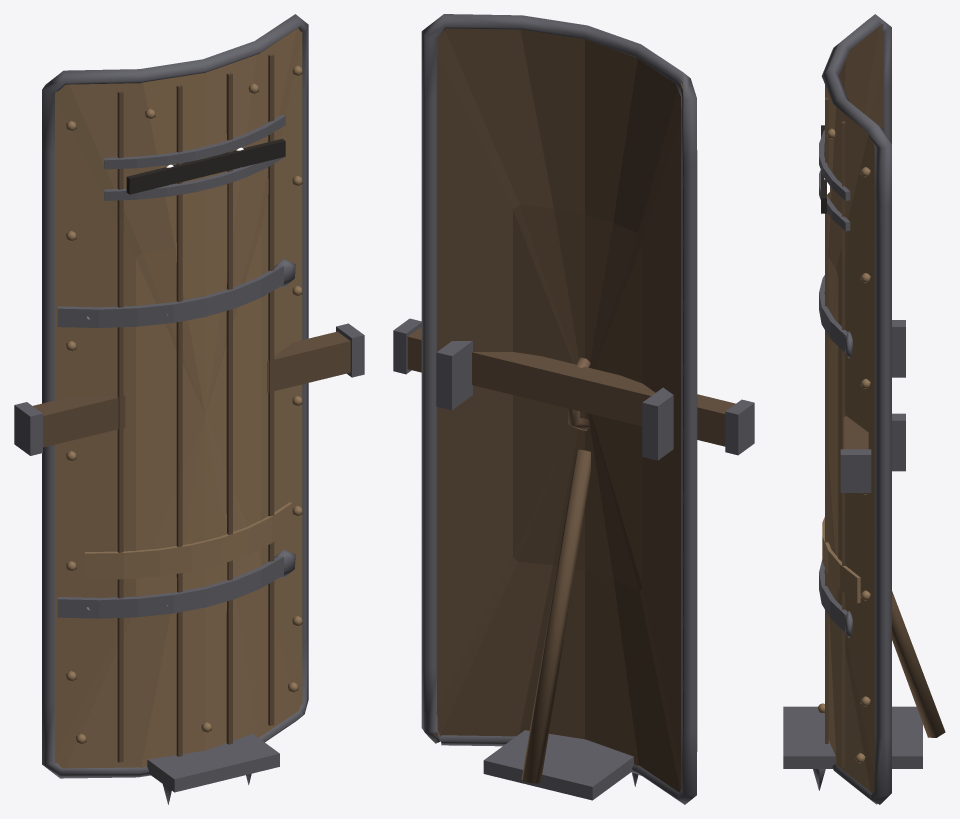
File: shield-tower.glb
The picture shows the model from 3 angles, left to right: view 1: azimuth 30°, elevation 25°; view 2: azimuth 150°, elevation 25°; view 3: azimuth 270°, elevation 25°; orthographic projection. The views are drawn at different scales.
Parts seen in each view (by area): view 1: shield-tower; view 2: shield-tower; view 3: shield-tower.
Part boxes in pixels (bbox=[...]): shield-tower: bbox=[14, 14, 364, 804]; shield-tower: bbox=[393, 14, 754, 804]; shield-tower: bbox=[783, 14, 945, 804].
Size of the model in its own units: 1.26 by 2.64 by 0.5525.
